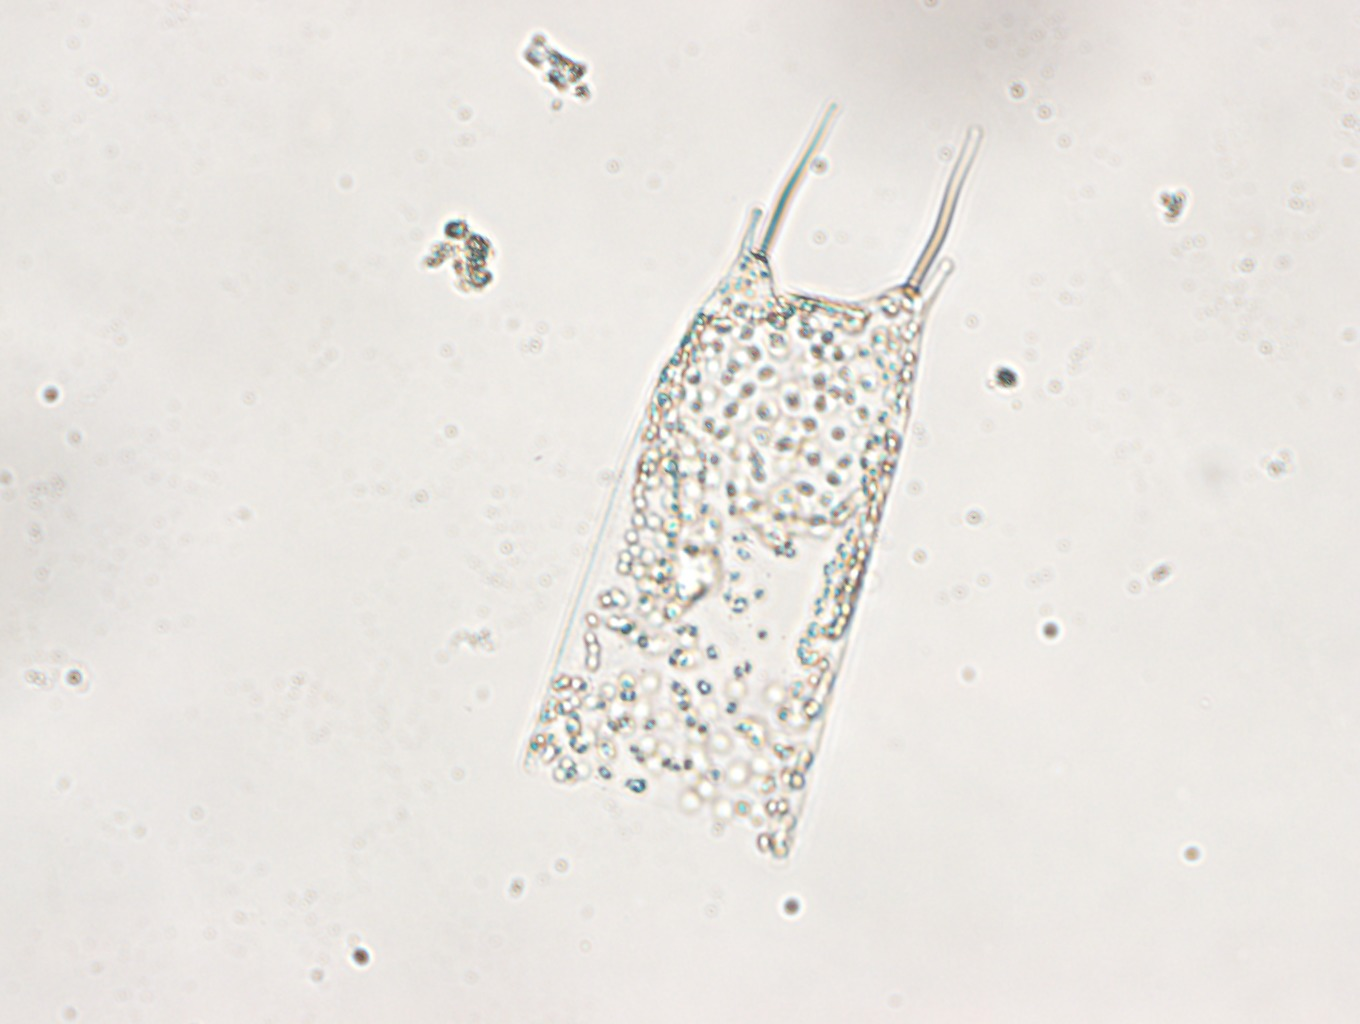biddulphia: (518, 86, 989, 858)
